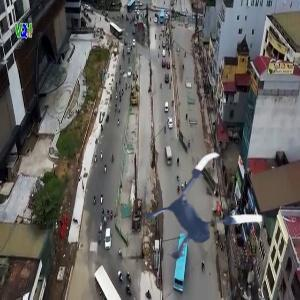drone: (136, 150, 270, 284)
